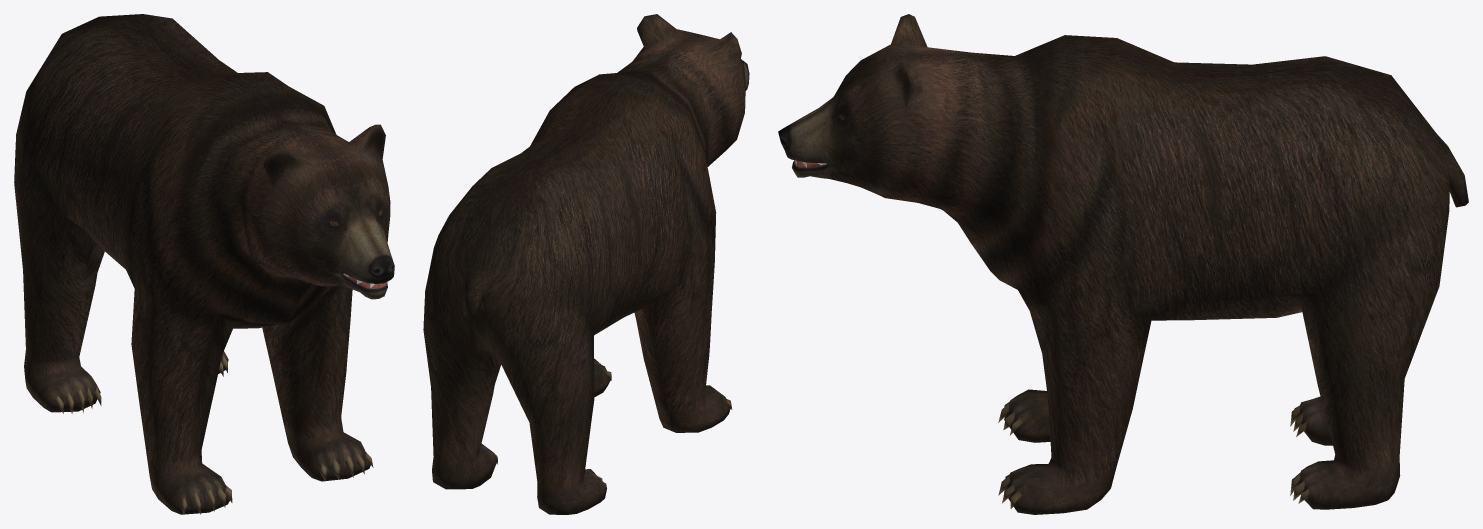
File: Bear.FBX
3 renders of one model, left to right at view 1: azimuth 30°, elevation 25°; view 2: azimuth 150°, elevation 25°; view 3: azimuth 270°, elevation 25°, orthographic. The views are drawn at different scales.
Parts seen in each view (by area): view 1: bear; view 2: bear; view 3: bear.
Part boxes in pixels (bbox=[...]): bear: bbox=[14, 14, 394, 514]; bear: bbox=[423, 14, 749, 514]; bear: bbox=[778, 14, 1468, 514].
Size of the model in its own units: 10.24 by 19.71 by 28.84.
